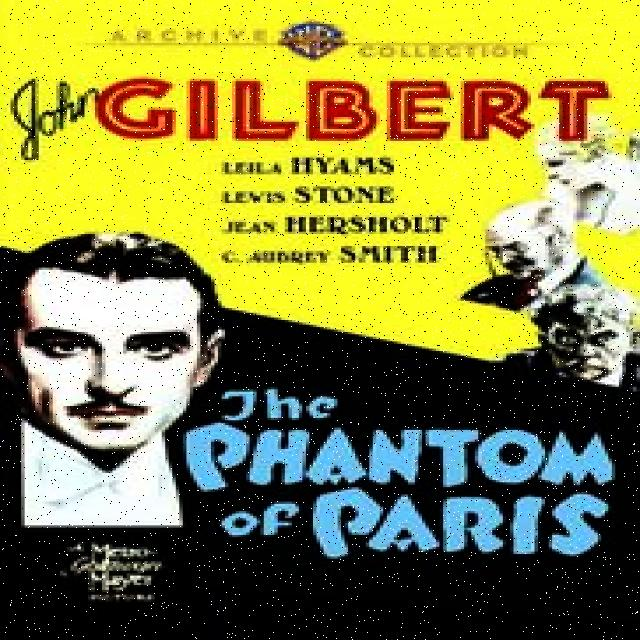movie-judul: (184, 388, 629, 564)
picture: (1, 224, 208, 546), (468, 136, 640, 387)
